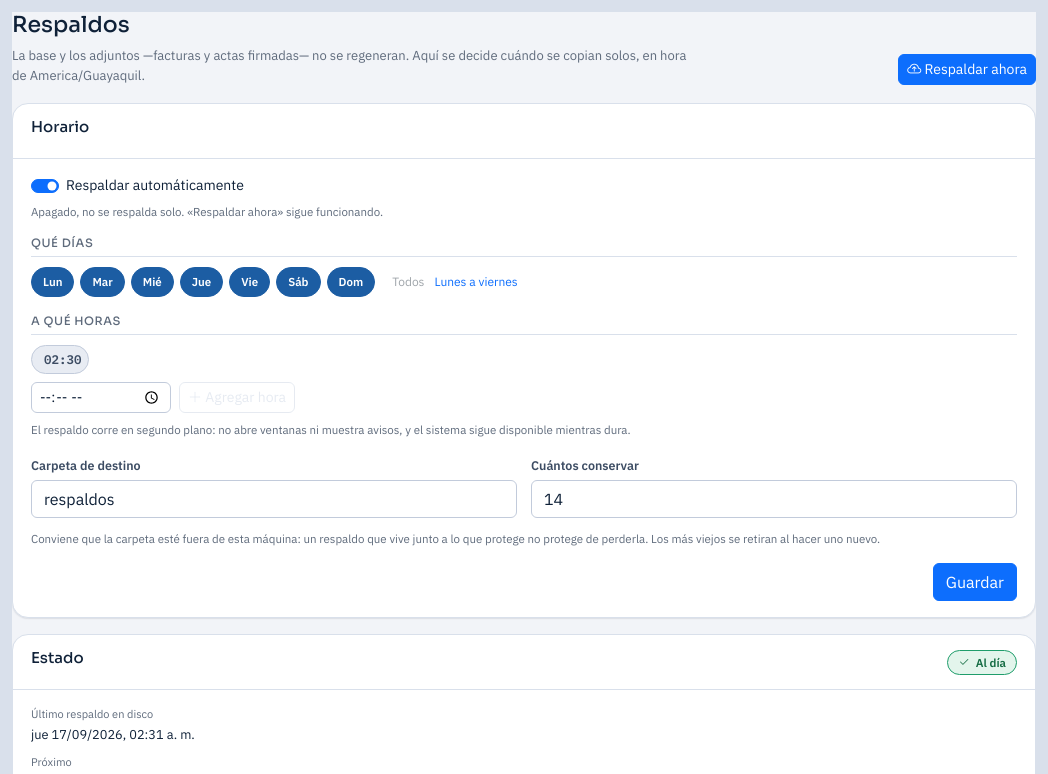
Scenario: Respaldar ahora › deja la orden y dice cuánto tarda en empezar
The image size is (1048, 774).
Click the button "Respaldar ahora" at {"x": 967, "y": 70}, box left=898, top=54, right=1036, bottom=85
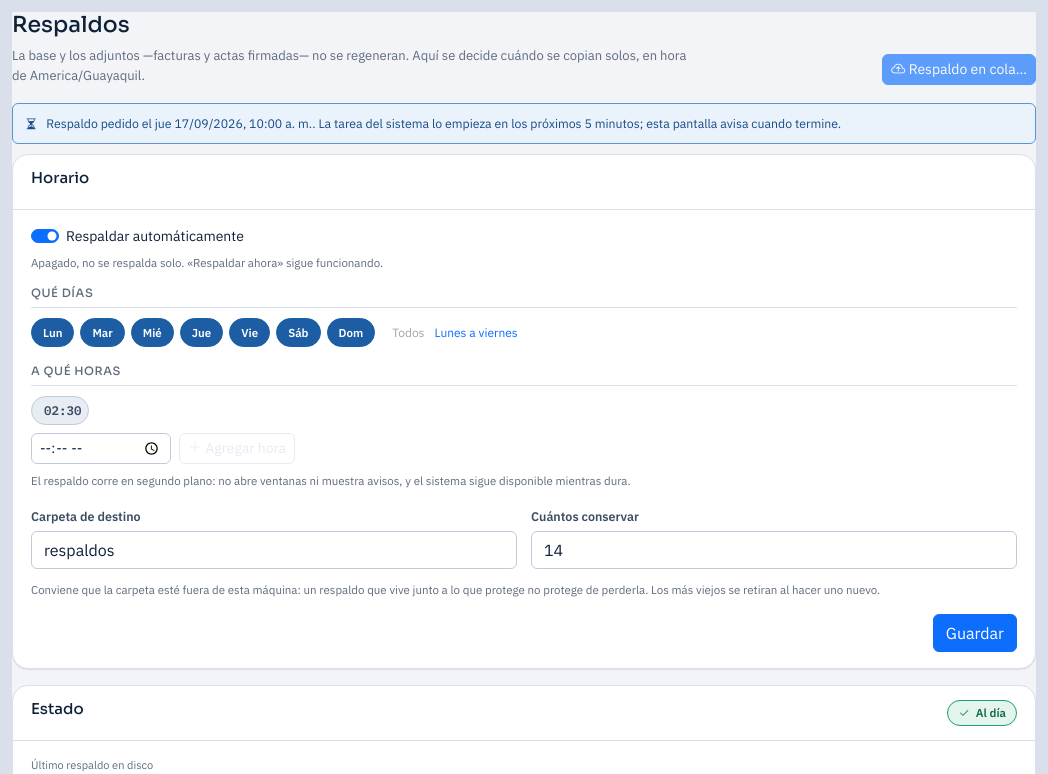
Check: the text "en los próximos 5 minutos" is shown, box left=12, top=103, right=1036, bottom=144
Check: the button "Respaldo en cola…" is disabled, box left=882, top=54, right=1036, bottom=85
